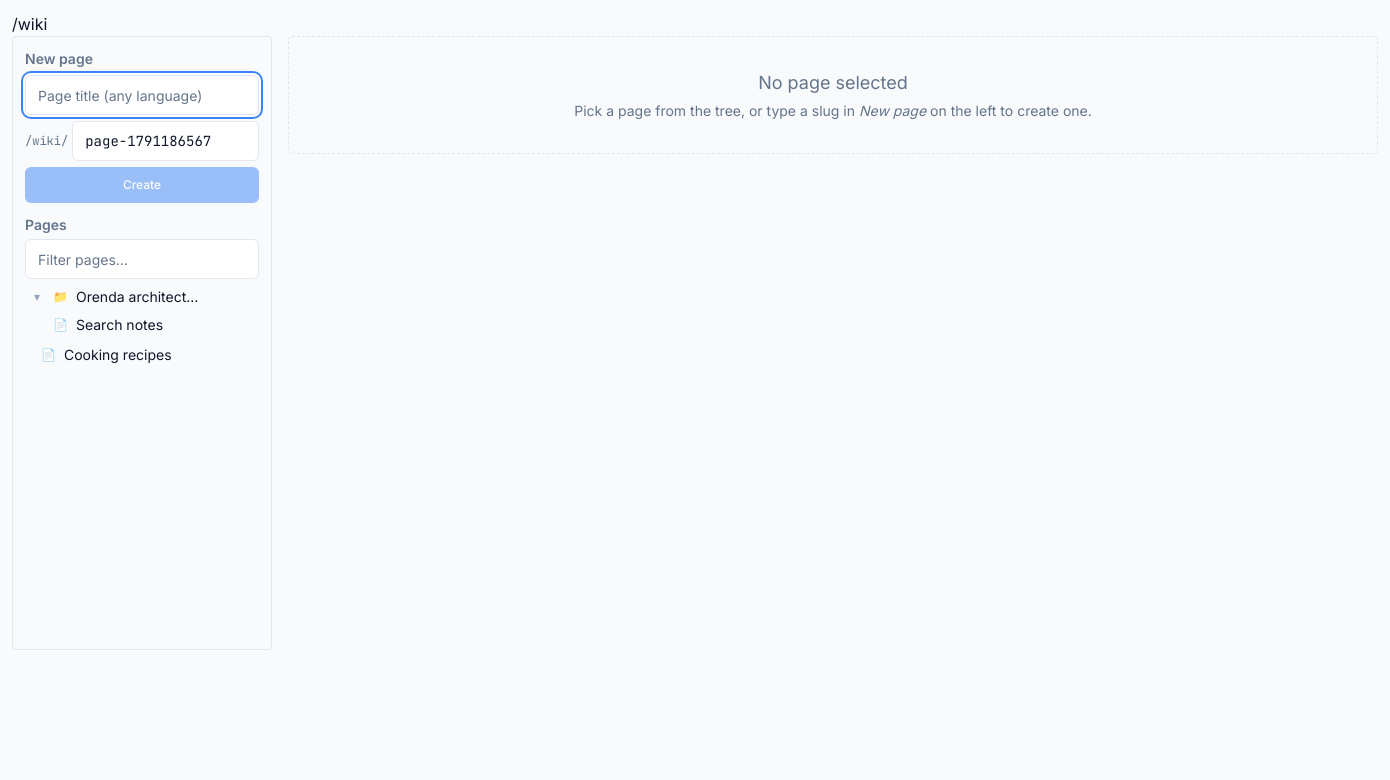
Test: WikiSidebar search › falls back to /wiki/<id> when a hit has no slug
Expected: the link "Orenda architecture" is shown, [72,283,205,311]
In the field named "Search wiki": {"x": 142, "y": 259} [25,239,259,279], type "legacy"
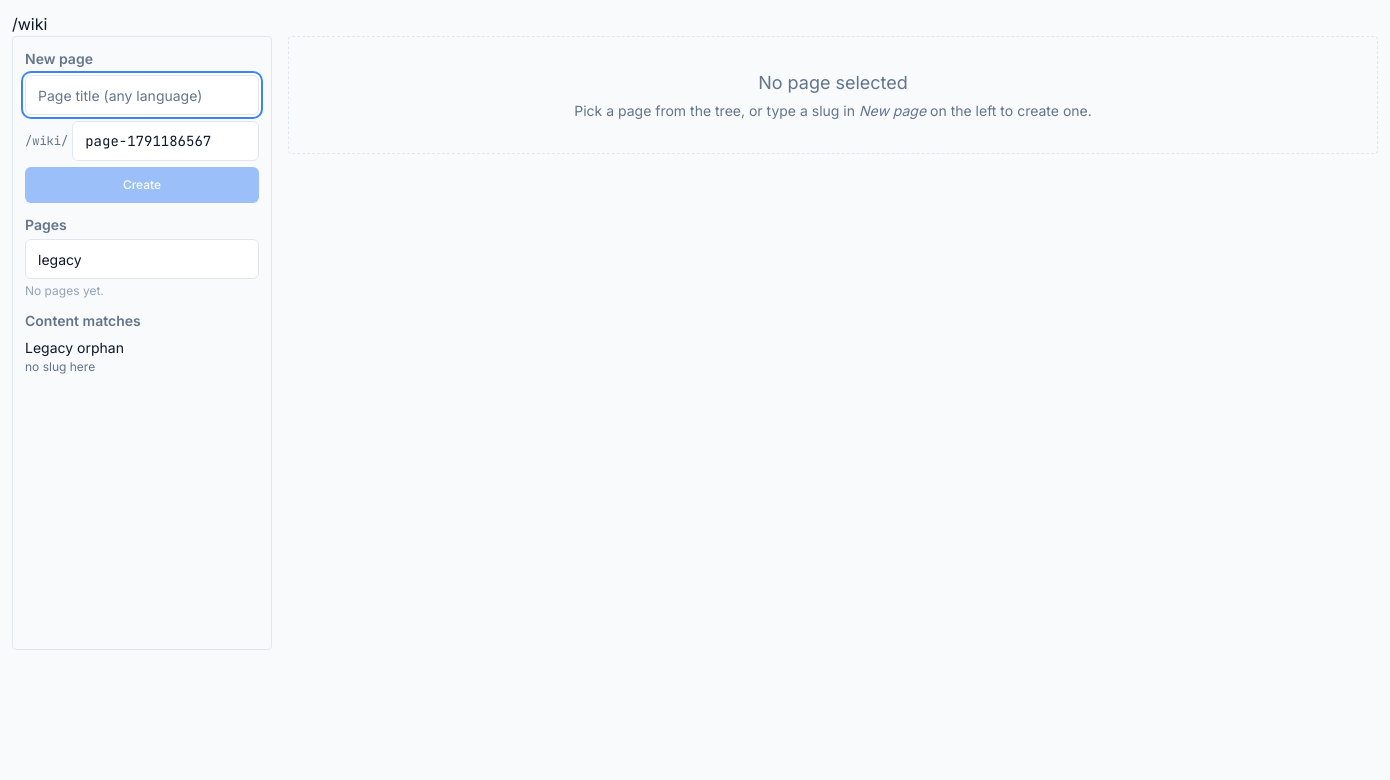
Expected: the heading "Content matches" is shown, [25,312,141,329]
Click the button "Legacy orphan": {"x": 142, "y": 348} [25,338,259,358]
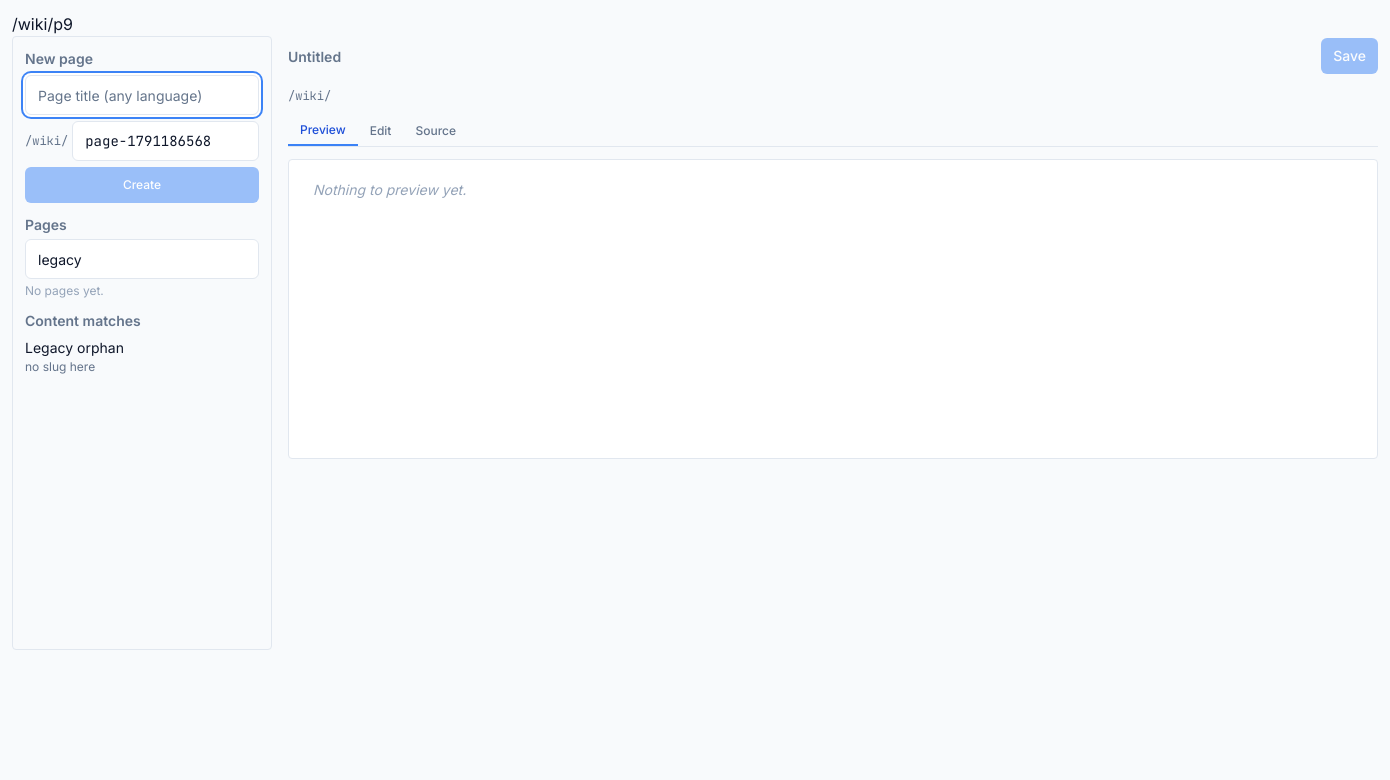
Expected: the text with test id "location" reads "/wiki/p9", [12,14,73,34]
